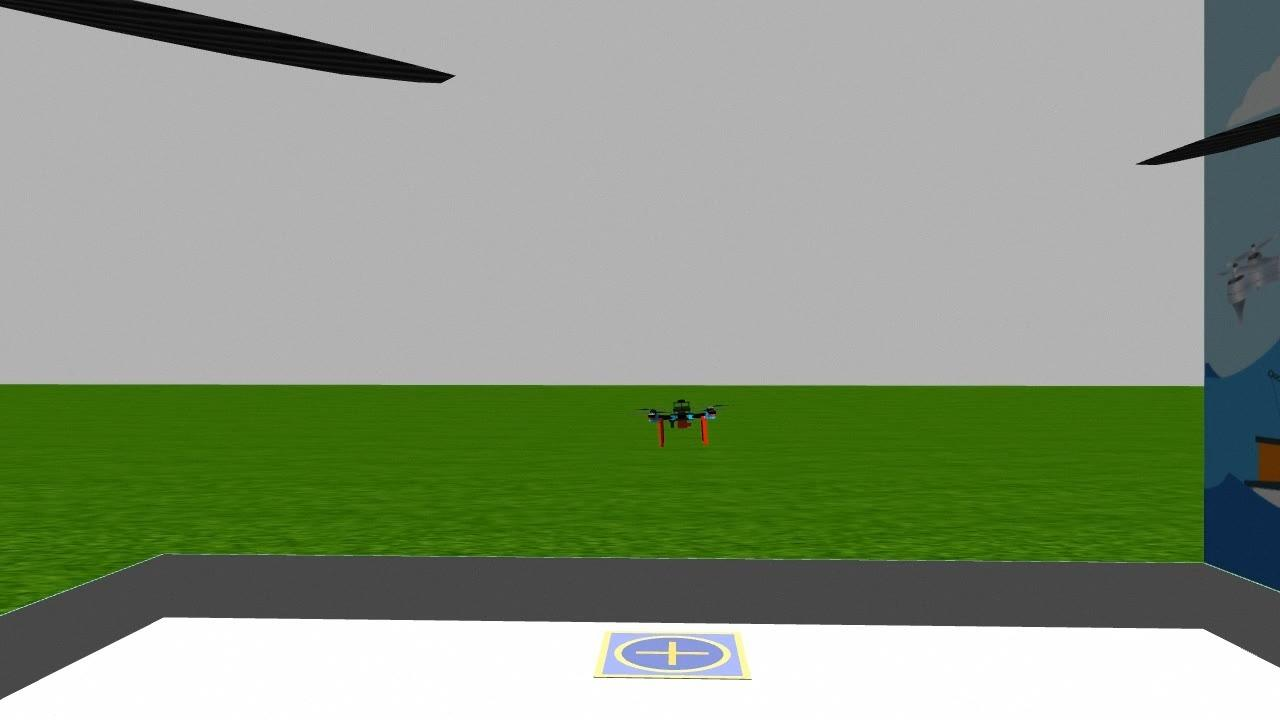UAV: (634, 381, 730, 462)
